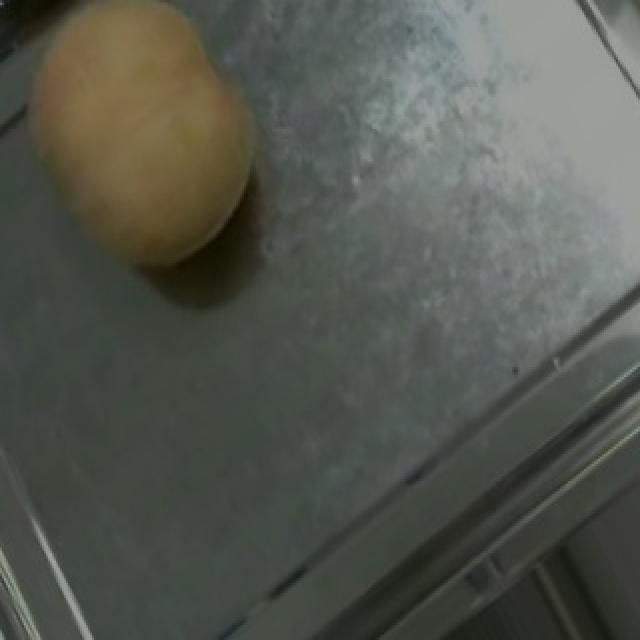Fruit: (0, 0, 296, 310)
